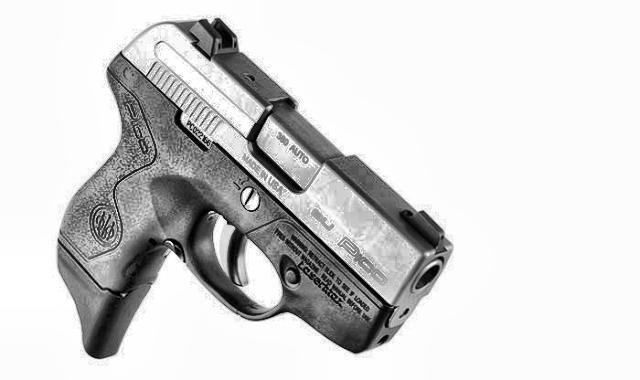pistol: (24, 10, 452, 358)
